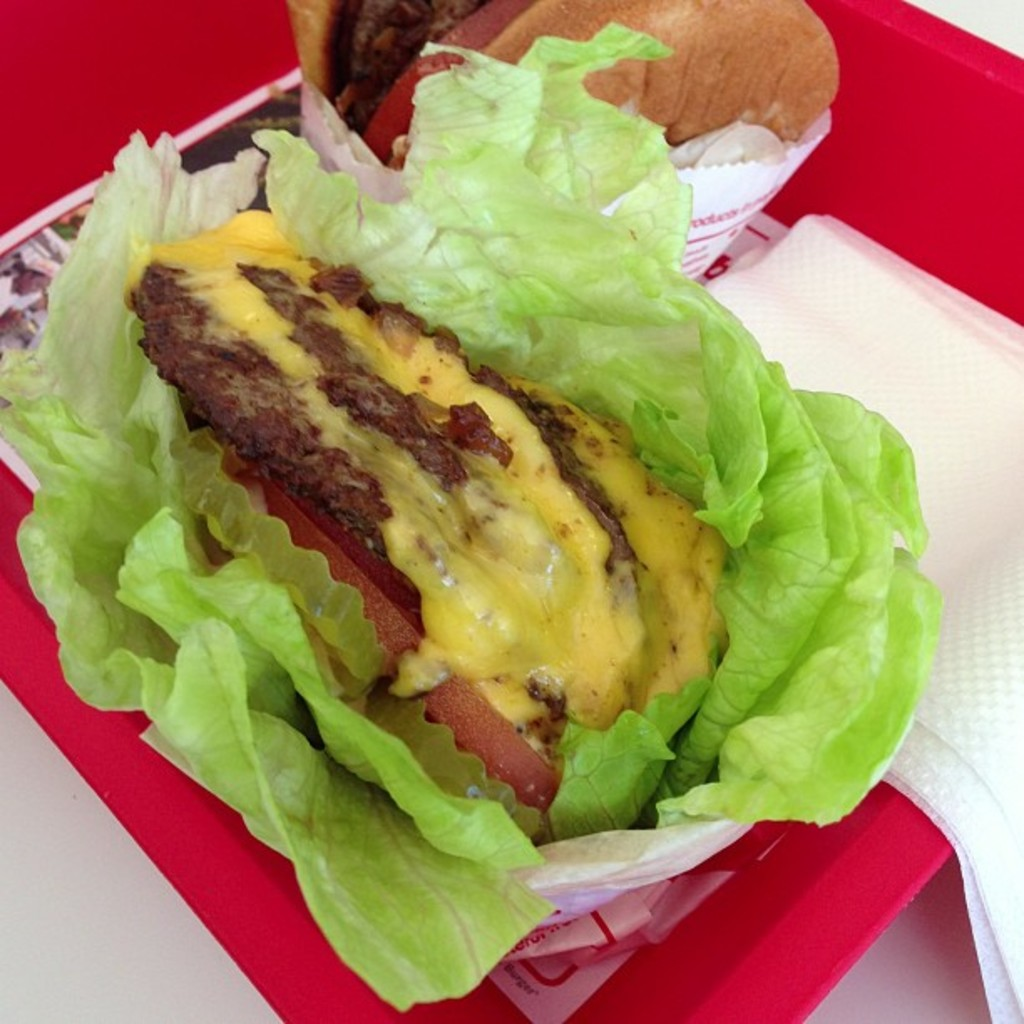Hamburger: (0, 23, 921, 1008), (235, 0, 819, 284)
